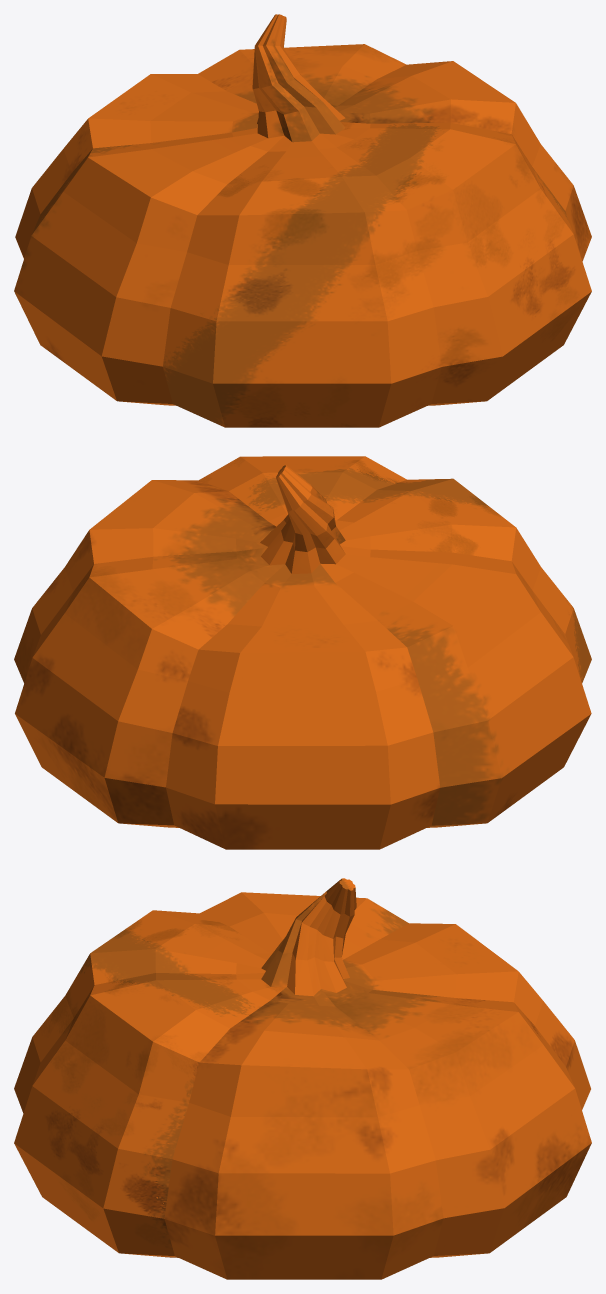
File: Pumpkin009.fbx
The picture shows the model from 3 angles, top to bottom: view 1: azimuth 30°, elevation 25°; view 2: azimuth 150°, elevation 25°; view 3: azimuth 270°, elevation 25°; orthographic projection.
Parts seen in each view (by area): view 1: Pumpkin009; view 2: Pumpkin009; view 3: Pumpkin009.
Part boxes in pixels (x1,y1,x2,y2): Pumpkin009: [14, 14, 591, 427]; Pumpkin009: [14, 456, 591, 849]; Pumpkin009: [14, 878, 591, 1279].
Bounding box in the file's own units: 45.55 × 29.08 × 46.43.
